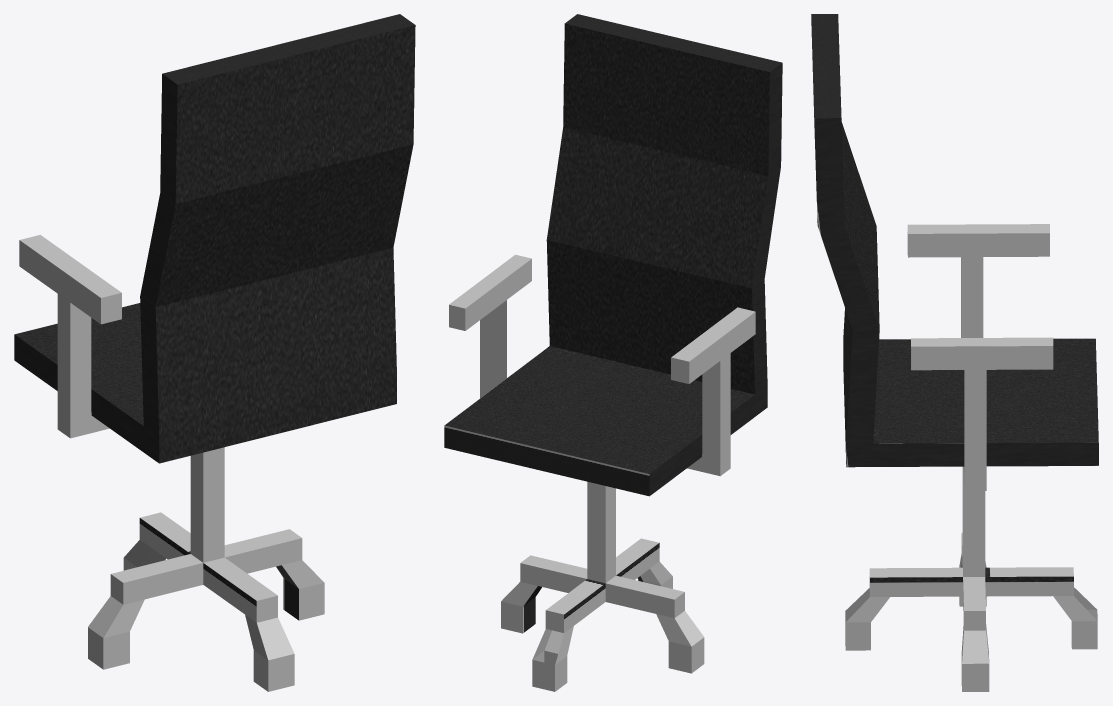
Rendered from krzeslo pracownikl.glb.
3 views of the same model, side by side, from view 1: azimuth 30°, elevation 25°; view 2: azimuth 150°, elevation 25°; view 3: azimuth 270°, elevation 25° (orthographic). The views are drawn at different scales.
Parts seen in each view (by area): view 1: biurko.023; view 2: biurko.023; view 3: biurko.023.
Boxes of the visible parts, box(x1,y1,x2,y2) form: biurko.023: box(14, 14, 415, 691); biurko.023: box(444, 14, 782, 691); biurko.023: box(811, 14, 1098, 691).
Size of the model in its own units: 1.59 by 3.49 by 1.57.
Materials: 1 (1 with a texture image).
